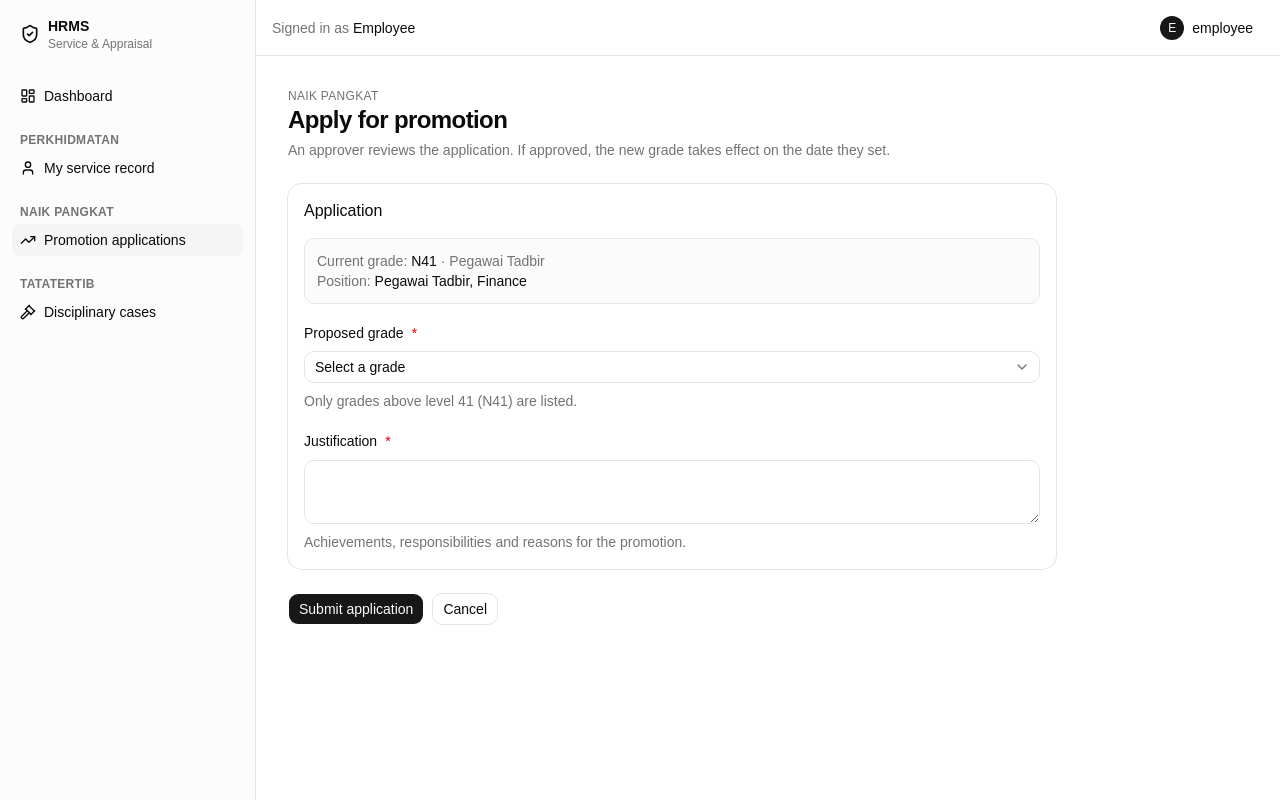
it: promotion application form › explains a RULE_VIOLATION from the backend
This screenshot has width=1280, height=800.
Select "N44 — Pegawai Tadbir Kanan (level 44)" in the dropdown labelled "Proposed grade *" at x=672, y=367, box 304,351 -> 1040,383
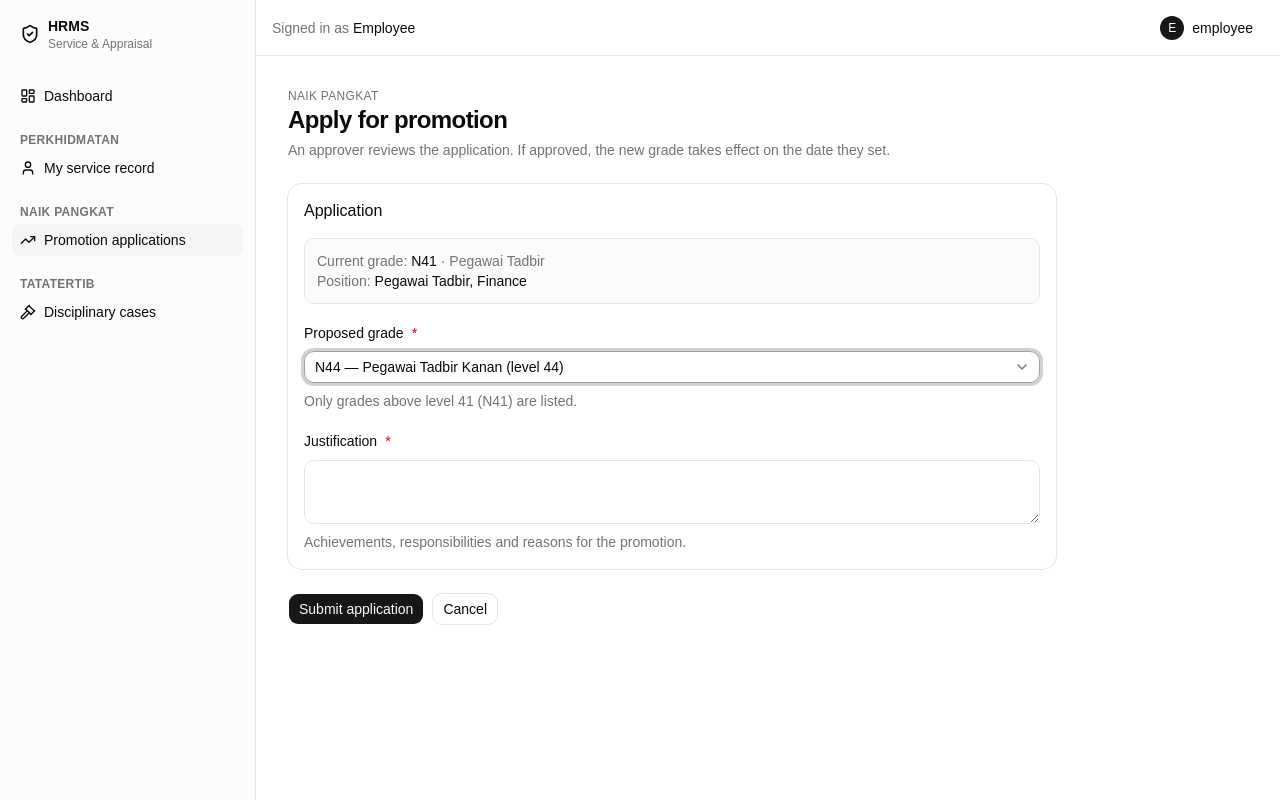
Type "Ready." into the text box labelled "Justification *" at x=672, y=492, box 304,460 -> 1040,524
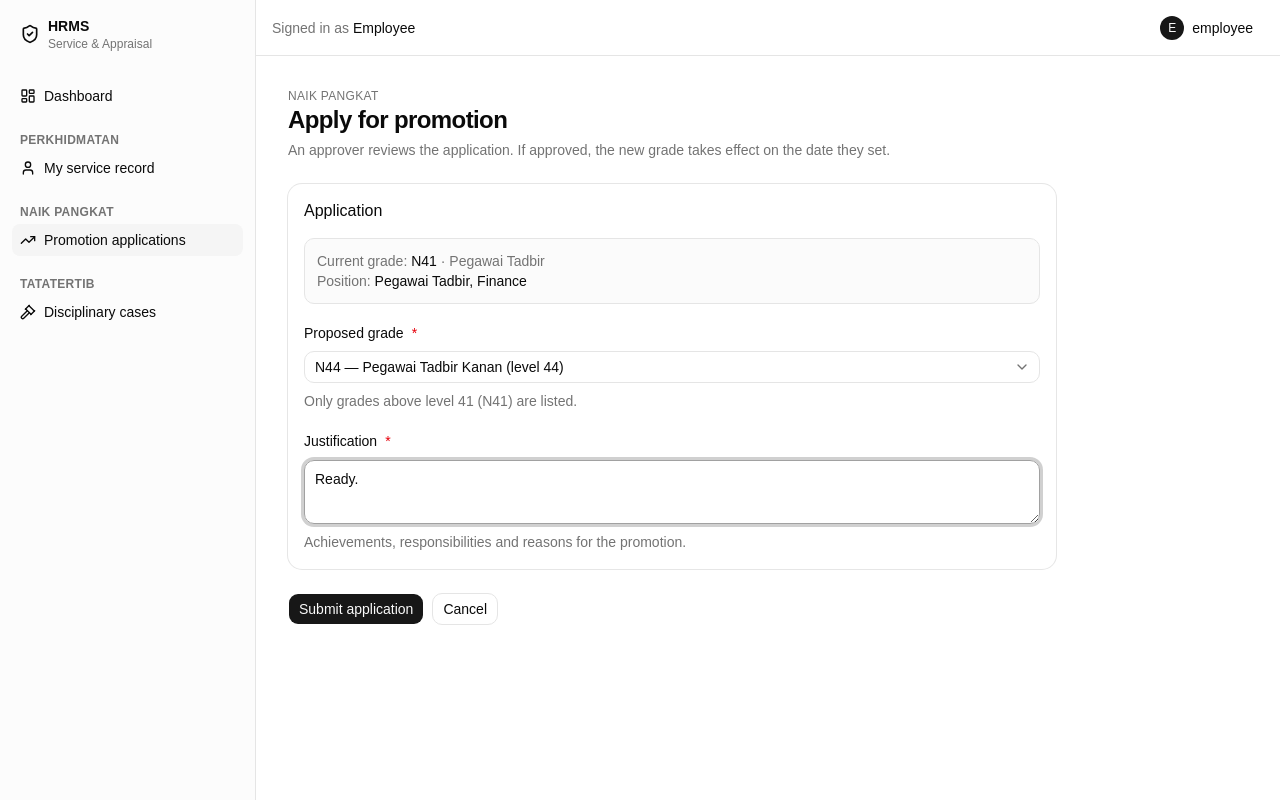
Click the button "Submit application" at x=356, y=608, box 288,592 -> 424,624
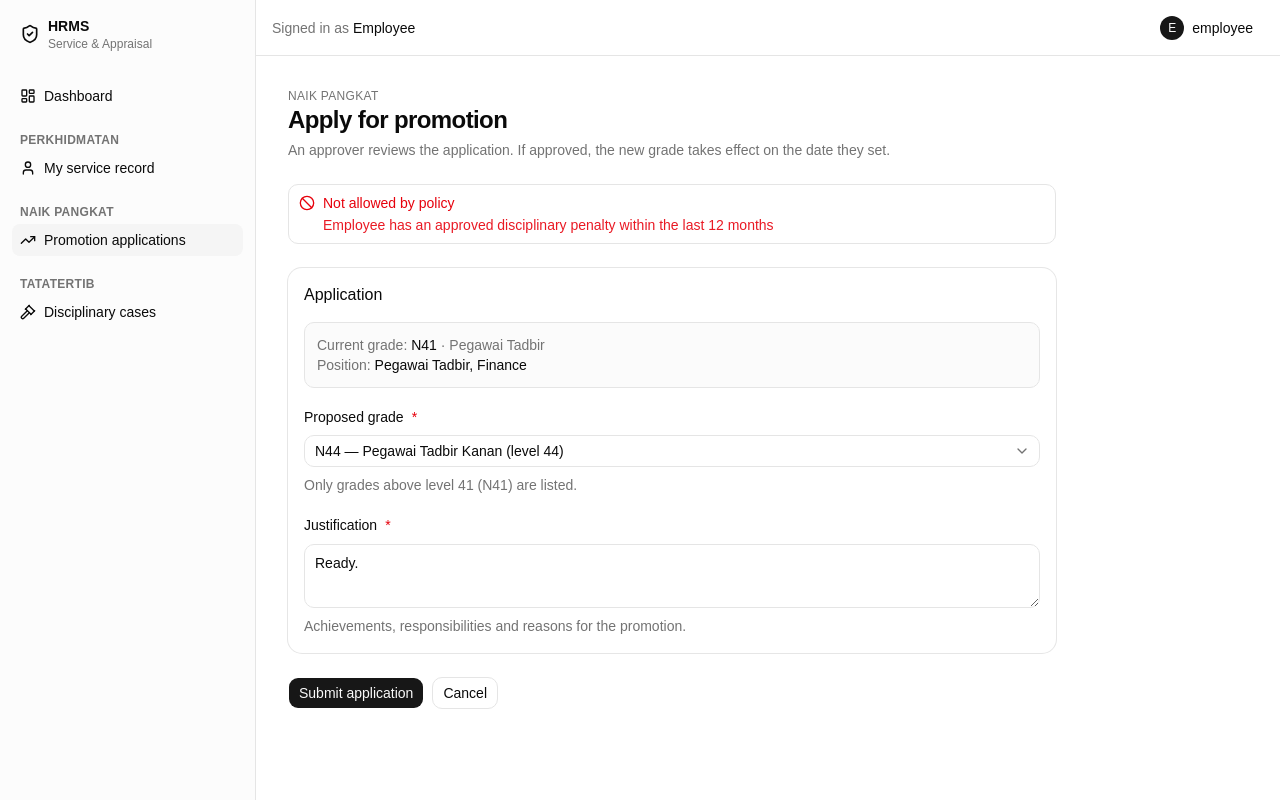
Now the text "Not allowed by policy" is shown, box 323,195 -> 454,211
Now the text "Employee has an approved disciplinary penalty within the last 12 months" is shown, box 323,217 -> 774,233
